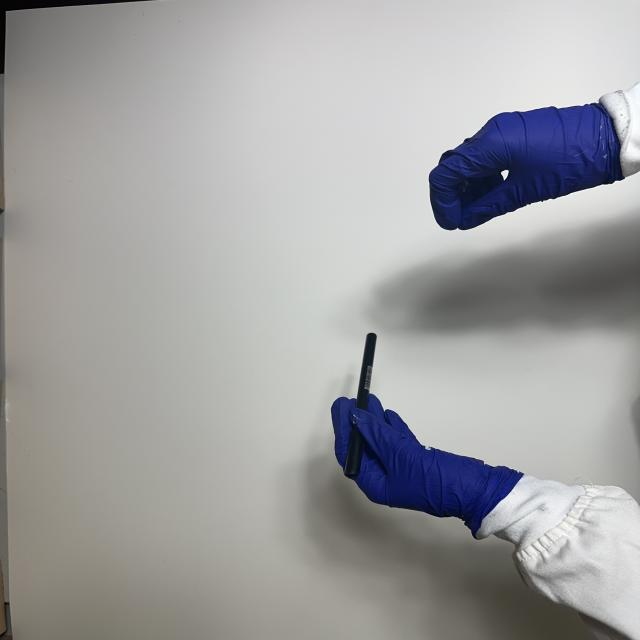gloves_contaminated: (332, 395, 522, 536), (429, 103, 628, 230)
